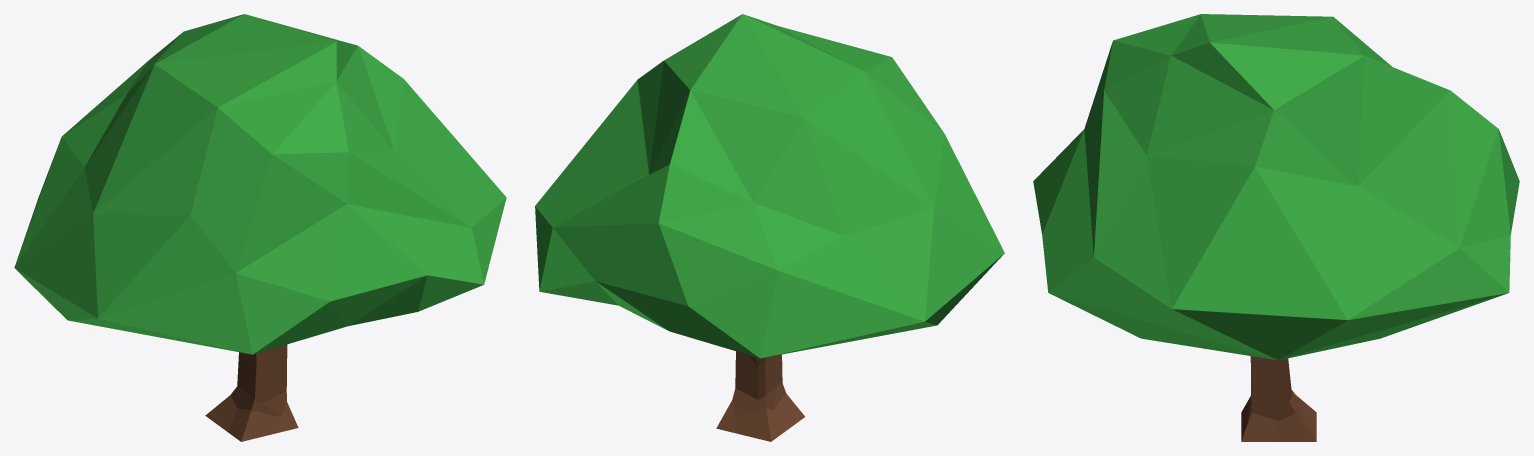
File: Tree_24_Green.fbx
The picture shows the model from 3 angles, left to right: view 1: azimuth 30°, elevation 25°; view 2: azimuth 150°, elevation 25°; view 3: azimuth 270°, elevation 25°; orthographic projection. The views are drawn at different scales.
Visible parts, largest first — view 1: Tree_24_Green_Part_1, Tree_24_Green_Part_2; view 2: Tree_24_Green_Part_1, Tree_24_Green_Part_2; view 3: Tree_24_Green_Part_1, Tree_24_Green_Part_2.
Part boxes in pixels (<box>): Tree_24_Green_Part_1: <box>14,14,506,354</box>; Tree_24_Green_Part_2: <box>205,344,298,441</box>; Tree_24_Green_Part_1: <box>535,14,1004,358</box>; Tree_24_Green_Part_2: <box>716,351,804,441</box>; Tree_24_Green_Part_1: <box>1033,14,1519,360</box>; Tree_24_Green_Part_2: <box>1241,356,1316,441</box>.
Size of the model in its own units: 806 by 738 by 791.
